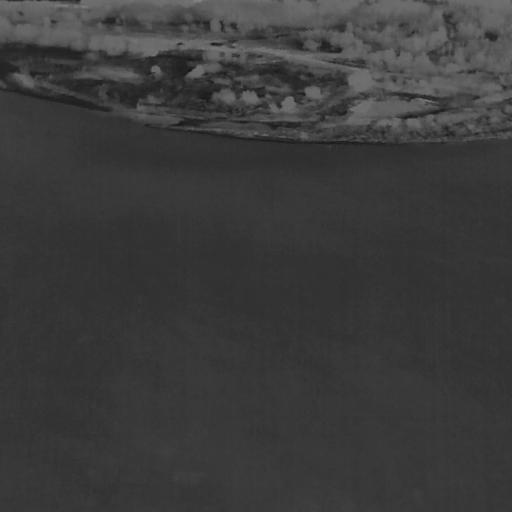uav: (136, 307, 143, 315)
